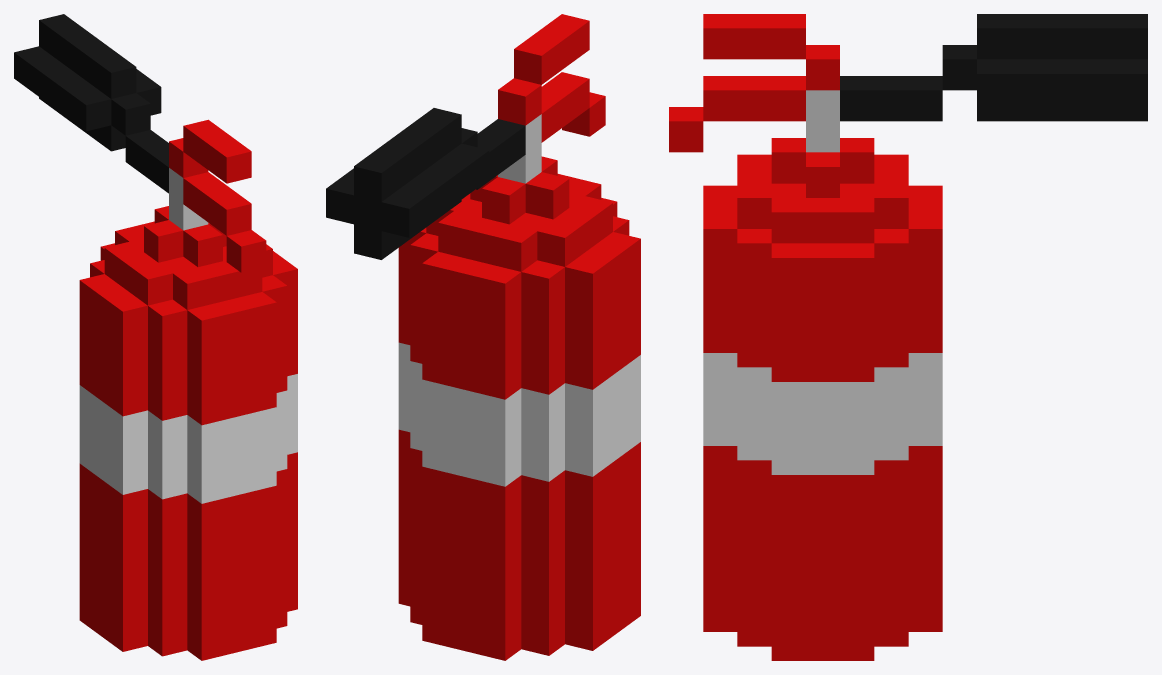
The model's file is Extinguisher.obj.
3 renders of one model, left to right at view 1: azimuth 30°, elevation 25°; view 2: azimuth 150°, elevation 25°; view 3: azimuth 270°, elevation 25°, orthographic. The views are drawn at different scales.
Size of the model in its own units: 0.7 by 1.9 by 1.4.
Materials: 1 (1 with a texture image).
